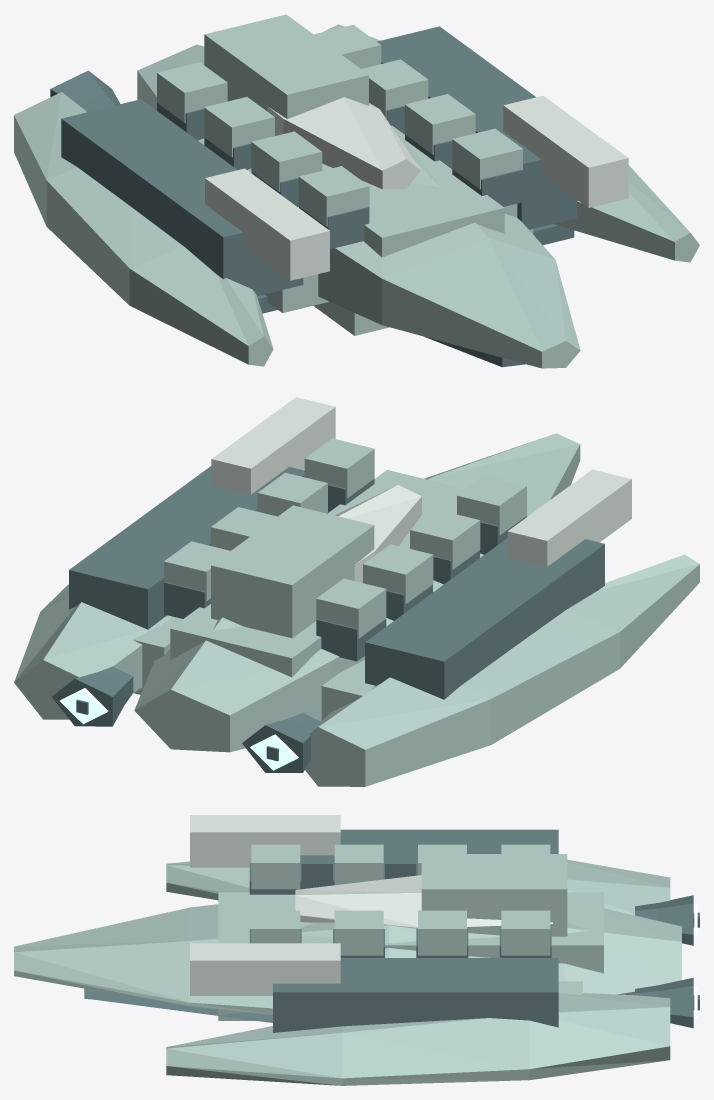
3 views of the same model, one above another, from view 1: azimuth 30°, elevation 25°; view 2: azimuth 150°, elevation 25°; view 3: azimuth 270°, elevation 25° (orthographic). The views are drawn at different scales.
Bounding box in the file's own units: 19.52 × 6.6 × 26.34.
